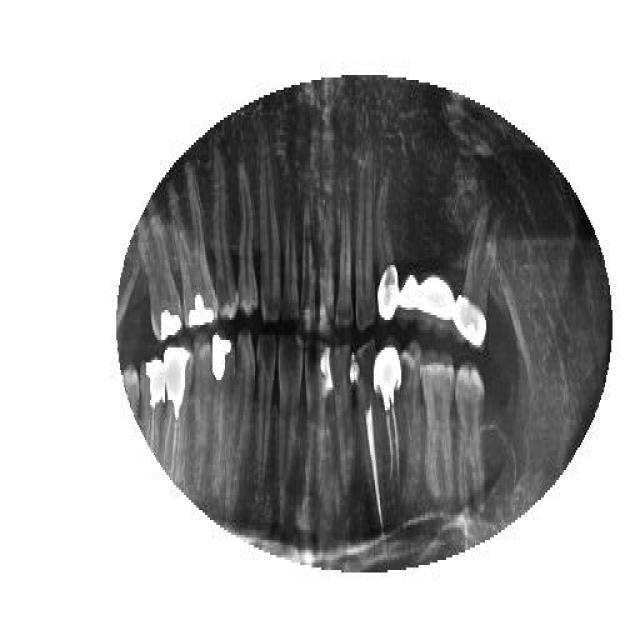Fillings: (169, 168, 220, 330), (138, 200, 184, 340), (457, 205, 498, 353), (371, 172, 399, 322), (211, 332, 234, 492), (419, 272, 455, 338), (398, 272, 420, 322)
Implant: (159, 348, 191, 490), (372, 340, 402, 482), (138, 358, 170, 450)
